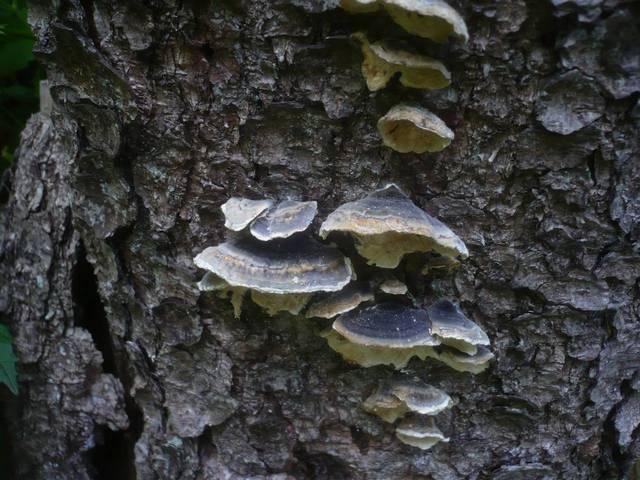Non-edible Mushroom: (318, 181, 470, 271), (192, 234, 354, 318), (320, 296, 494, 373), (375, 101, 455, 155)
